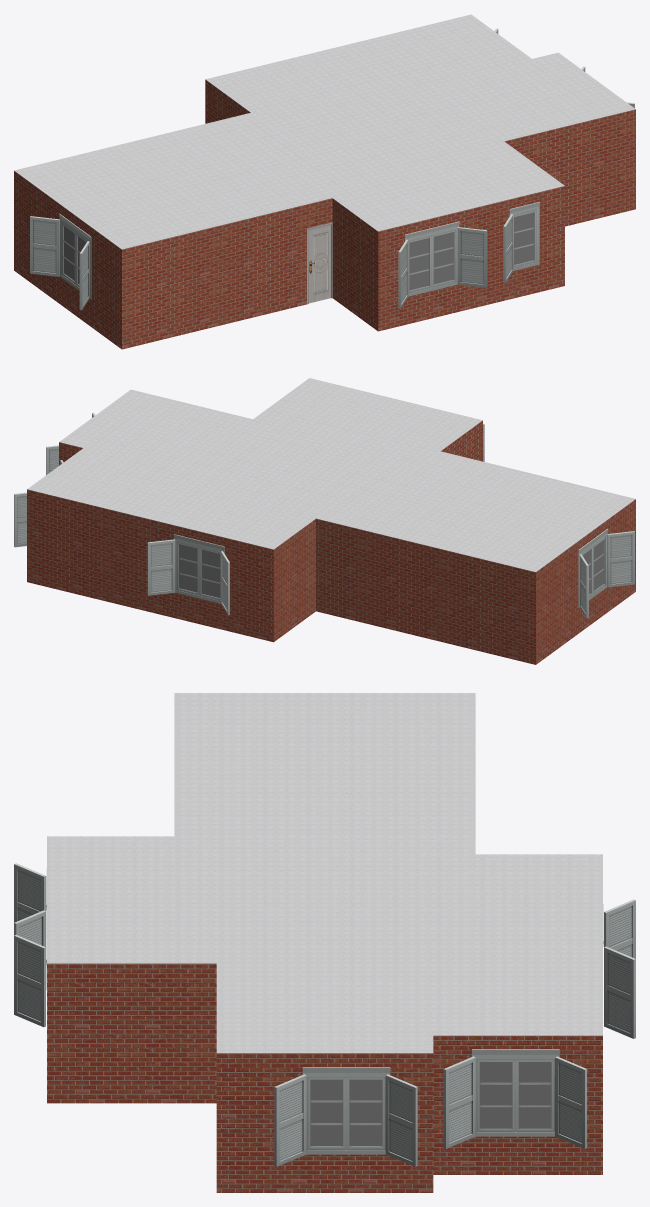
File: house_0120200.FBX
3 views of the same model, one above another, from view 1: azimuth 30°, elevation 25°; view 2: azimuth 150°, elevation 25°; view 3: azimuth 270°, elevation 25° (orthographic). The views are drawn at different scales.
Visible parts, largest first — view 1: house_0120200_roof_100_00, house_0120200_outwall_100_00, house_0120200_outwall_100_02, house_0120200_outwall_100_04, house_0120200_outwall_100_11, house_0120200_floor_105_00, house_0120200_outwall_100_01, house_0120200_floor_101_00, house_0120200_floor_106_00, house_0120200_outwall_101_00, house_0120200_tcx_100_02, house_0120200_tcx_100_00 (+3 smaller); view 2: house_0120200_roof_100_00, house_0120200_outwall_100_10, house_0120200_outwall_100_08, house_0120200_outwall_100_11, house_0120200_floor_102_00, house_0120200_outwall_100_09, house_0120200_floor_101_00, house_0120200_tcx_100_08, house_0120200_tcx_100_10, house_0120200_outwall_100_01, house_0120200_floor_104_00, house_0120200_tcx_100_11; view 3: house_0120200_roof_100_00, house_0120200_outwall_100_03, house_0120200_outwall_100_05, house_0120200_floor_103_00, house_0120200_floor_104_00, house_0120200_outwall_100_07, house_0120200_floor_102_00, house_0120200_floor_106_00, house_0120200_floor_105_00, house_0120200_tcx_100_05, house_0120200_tcx_100_03, house_0120200_tcx_100_07.
Part boxes in pixels (x1,y1,x2,y2): house_0120200_roof_100_00: (14, 14, 635, 249); house_0120200_outwall_100_00: (122, 198, 332, 342); house_0120200_outwall_100_02: (378, 186, 564, 324); house_0120200_outwall_100_04: (504, 109, 635, 219); house_0120200_outwall_100_11: (14, 171, 121, 342); house_0120200_floor_105_00: (398, 221, 487, 308); house_0120200_outwall_100_01: (332, 198, 378, 324); house_0120200_floor_101_00: (30, 213, 91, 310); house_0120200_floor_106_00: (503, 202, 539, 283); house_0120200_outwall_101_00: (307, 222, 332, 304); house_0120200_tcx_100_02: (378, 279, 564, 331); house_0120200_tcx_100_00: (122, 297, 306, 349); house_0120200_roof_100_00: (27, 378, 635, 571); house_0120200_outwall_100_10: (316, 518, 535, 658); house_0120200_outwall_100_08: (27, 489, 273, 635); house_0120200_outwall_100_11: (536, 499, 635, 657); house_0120200_floor_102_00: (147, 534, 229, 615); house_0120200_outwall_100_09: (273, 519, 315, 635); house_0120200_floor_101_00: (578, 528, 634, 618); house_0120200_tcx_100_08: (27, 576, 273, 642); house_0120200_tcx_100_10: (316, 605, 535, 664); house_0120200_outwall_100_01: (441, 420, 482, 461); house_0120200_floor_104_00: (14, 460, 63, 547); house_0120200_tcx_100_11: (536, 585, 635, 664); house_0120200_roof_100_00: (47, 693, 602, 1053); house_0120200_outwall_100_03: (47, 964, 216, 1093); house_0120200_outwall_100_05: (216, 1053, 433, 1183); house_0120200_floor_103_00: (274, 1067, 417, 1166); house_0120200_floor_104_00: (443, 1049, 586, 1148); house_0120200_outwall_100_07: (433, 1035, 602, 1165); house_0120200_floor_102_00: (603, 899, 635, 1038); house_0120200_floor_106_00: (14, 934, 46, 1027); house_0120200_floor_105_00: (14, 863, 46, 989); house_0120200_tcx_100_05: (216, 1183, 433, 1192); house_0120200_tcx_100_03: (47, 1093, 216, 1103); house_0120200_tcx_100_07: (433, 1165, 602, 1174).
Bounding box in the file's own units: 1733 × 290 × 1173.
62 materials, 62 textured.
